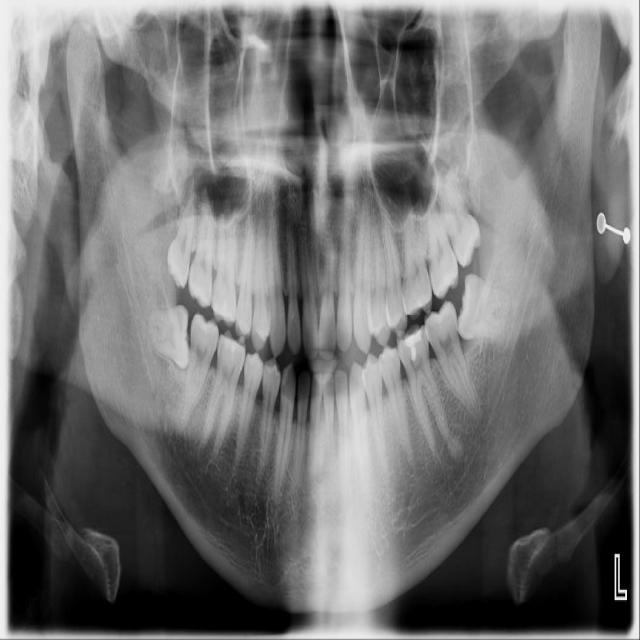Filling: (397, 325, 429, 370), (194, 316, 218, 346), (221, 336, 244, 366)
Periapical lesion: (445, 436, 466, 459)
impacted tooth: (459, 273, 519, 337), (140, 305, 190, 371)
